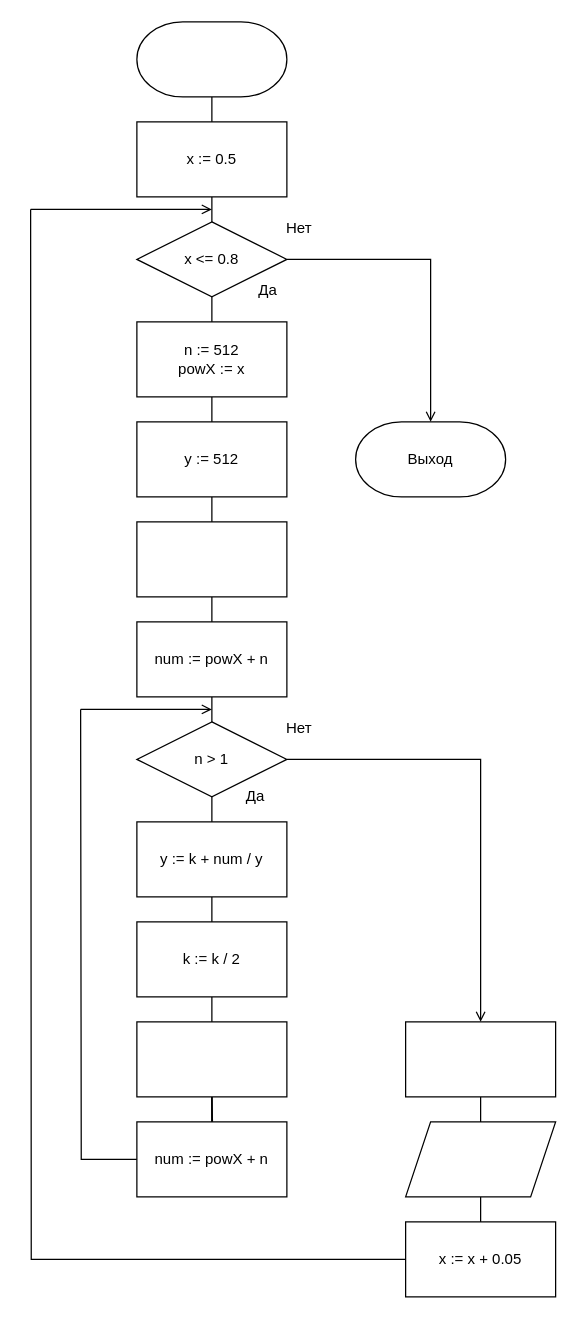
Image size: 578x1319. Some labels were removed from this diagram. Each missing label, with the box of its shape:
k := 256: (136, 521, 287, 597)
n := n / 2 powX := powX * x: (136, 1021, 287, 1097)
y := num / y: (404, 1021, 556, 1097)
Вывод x, y: (404, 1121, 556, 1197)
Начало: (136, 21, 287, 97)
